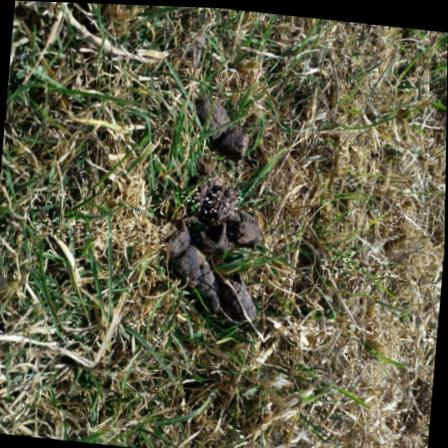dog-poop: (167, 90, 289, 334)
